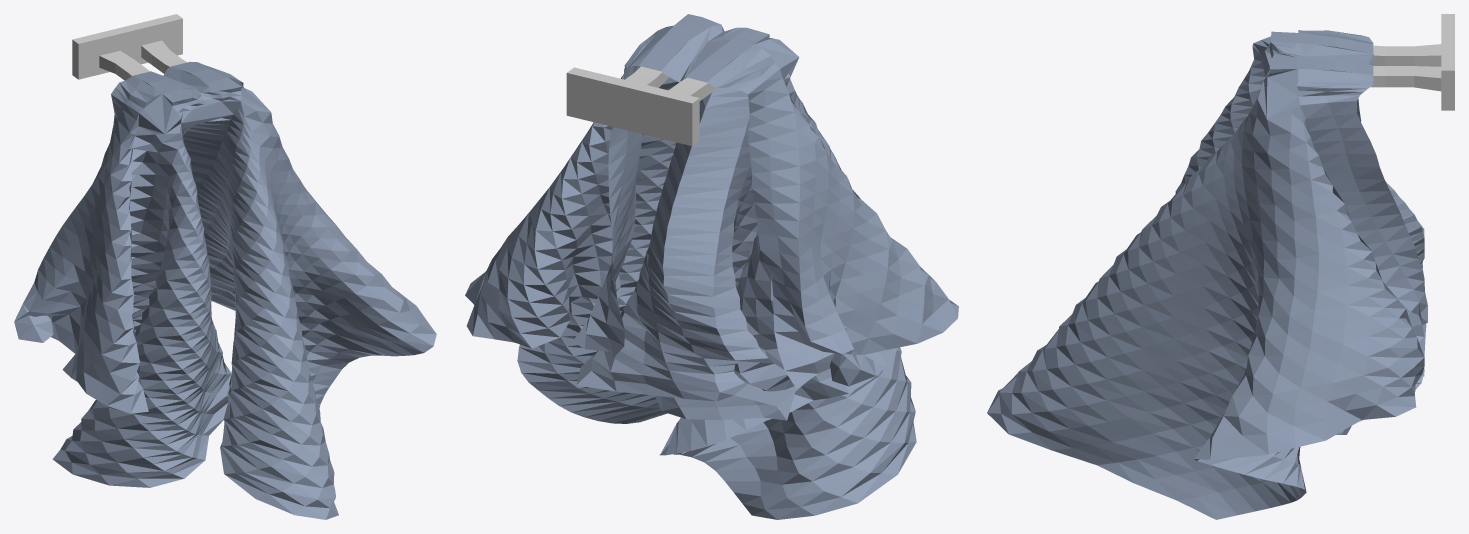
File: sh-bs0-towel2.glb
The picture shows the model from 3 angles, left to right: view 1: azimuth 30°, elevation 25°; view 2: azimuth 150°, elevation 25°; view 3: azimuth 270°, elevation 25°; orthographic projection. The views are drawn at different scales.
Visible parts, largest first — view 1: hanging_towel_Plane.012, towel_hook_Cube.006; view 2: hanging_towel_Plane.012, towel_hook_Cube.006; view 3: hanging_towel_Plane.012, towel_hook_Cube.006.
Part boxes in pixels (x1,y1,x2,y2): hanging_towel_Plane.012: (14,61,436,519); towel_hook_Cube.006: (72,14,187,80); hanging_towel_Plane.012: (465,14,958,519); towel_hook_Cube.006: (566,66,716,146); hanging_towel_Plane.012: (987,30,1427,519); towel_hook_Cube.006: (1370,14,1454,110).
Size of the model in its own units: 1 by 1 by 1.
